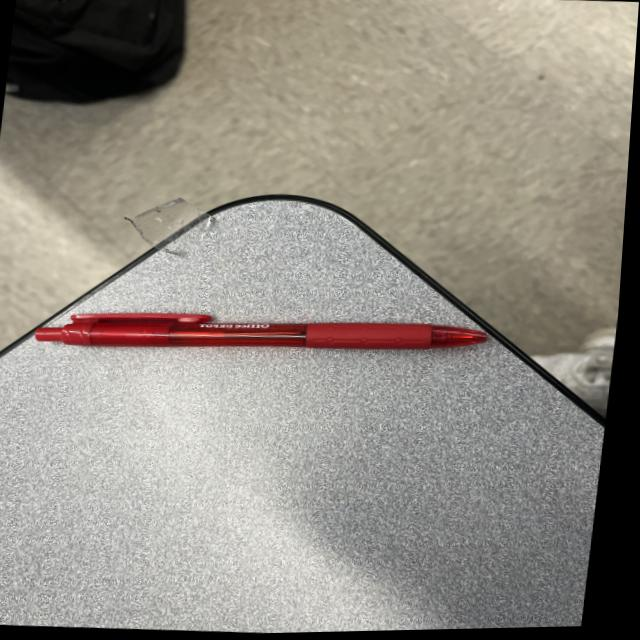pen: (38, 301, 498, 370)
